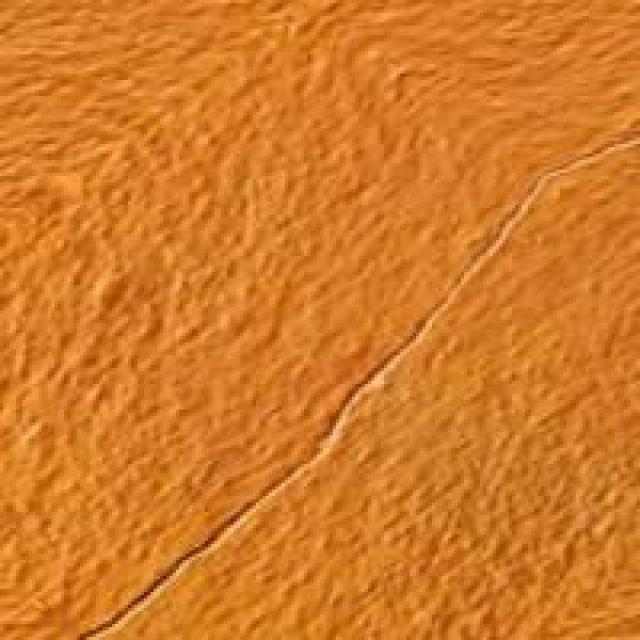crack: (3, 285, 480, 637)
